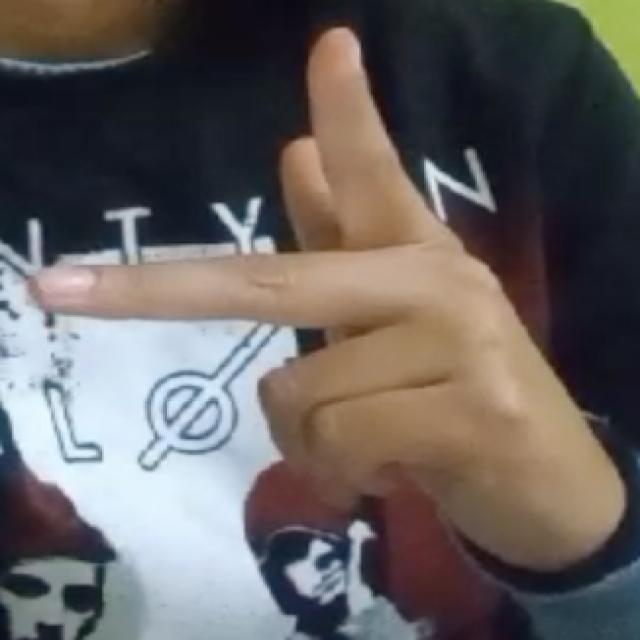P: (28, 14, 605, 588)
